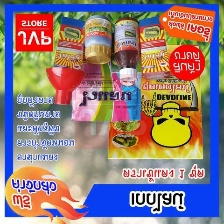book: (103, 39, 205, 162)
insecticide: (67, 33, 144, 125), (51, 15, 89, 79), (109, 15, 141, 83), (137, 22, 173, 81), (79, 13, 114, 66)
